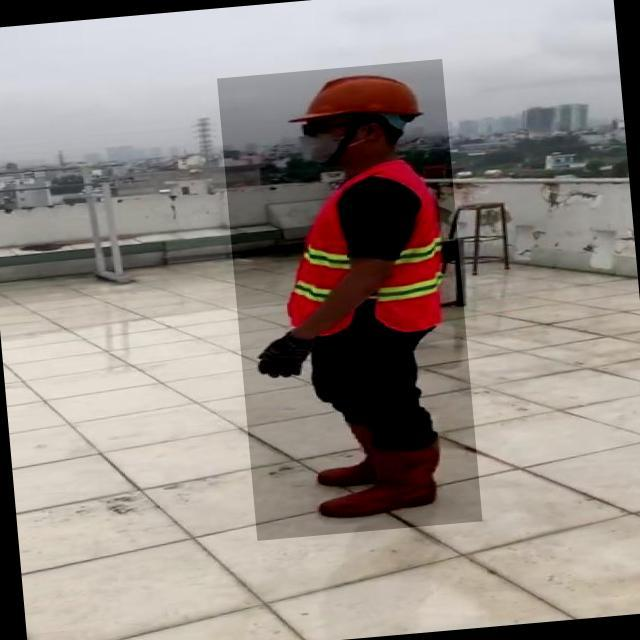Gloves: (254, 333, 315, 380)
Helmet: (293, 66, 426, 131)
Human: (217, 59, 483, 541)
Safety Boot: (318, 440, 443, 523), (307, 413, 418, 488)
Safety Vest: (272, 158, 450, 341)
